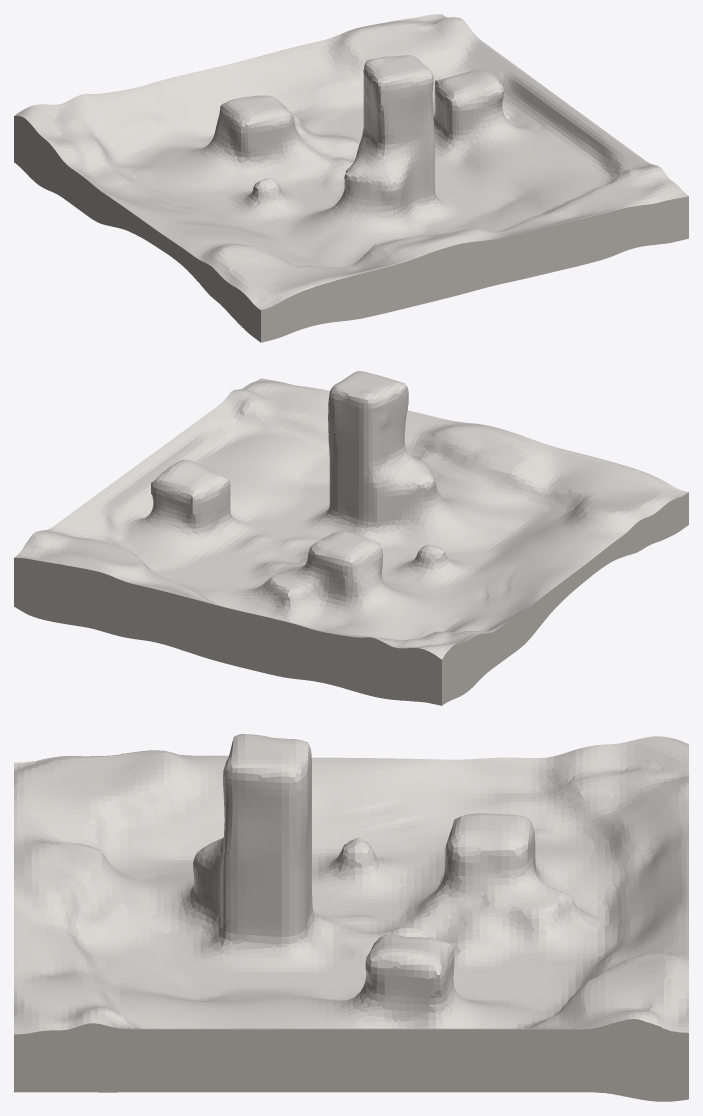
Rendered from leveltest.glb.
3 views of the same model, one above another, from view 1: azimuth 30°, elevation 25°; view 2: azimuth 150°, elevation 25°; view 3: azimuth 270°, elevation 25° (orthographic). The views are drawn at different scales.
Parts seen in each view (by area): view 1: Plane; view 2: Plane; view 3: Plane.
Part boxes in pixels (left/top/right/bottom): Plane: left=14, top=14, right=688, bottom=342; Plane: left=14, top=371, right=688, bottom=705; Plane: left=14, top=734, right=688, bottom=1101.
Bounding box in the file's own units: 129 × 47.77 × 129.
Materials: 1 (1 with a texture image).
